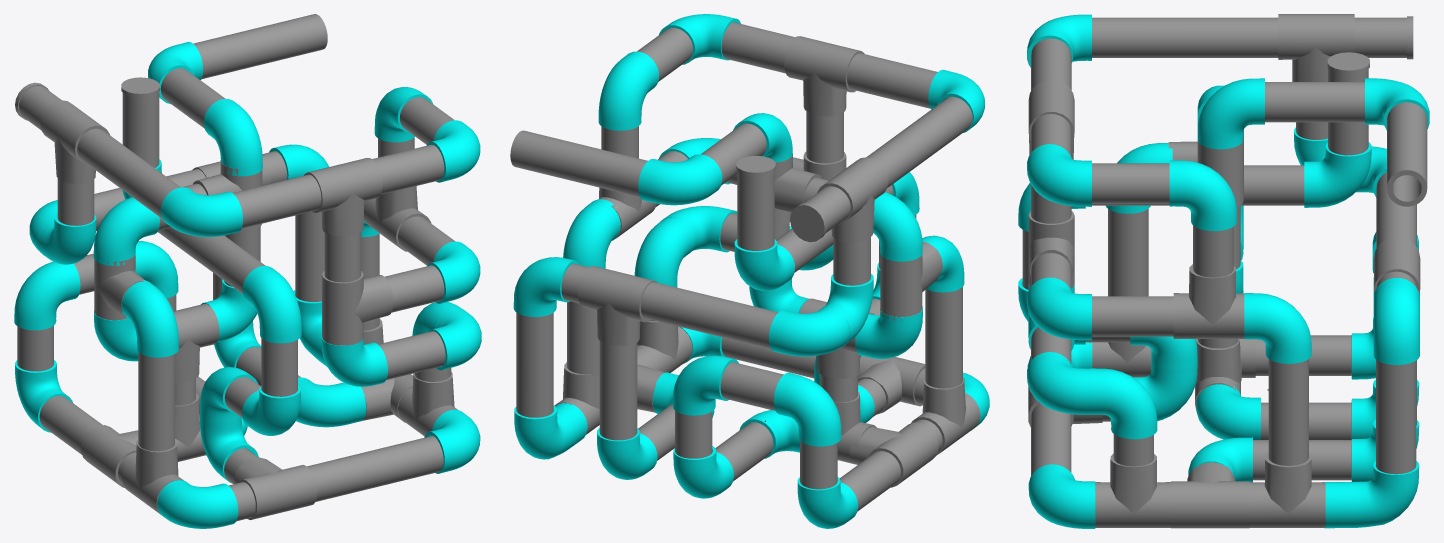
File: Lv-3-pipe-final.FBX
The picture shows the model from 3 angles, left to right: view 1: azimuth 30°, elevation 25°; view 2: azimuth 150°, elevation 25°; view 3: azimuth 270°, elevation 25°; orthographic projection. The views are drawn at different scales.
Visible parts, largest first — view 1: 组007, Donut109, Donut121, Cylinder027, Cylinder025, Donut106, Donut110, Cylinder039, Donut326, Cylinder032, Donut122, Donut101 (+32 smaller); view 2: 组007, Donut121, Donut105, Cylinder025, Cylinder030, Donut106, Donut101, Donut103, Donut110, Donut326, Cylinder032, Cylinder035 (+32 smaller); view 3: 组007, Donut106, Cylinder031, Donut101, Cylinder029, Cylinder026, Cylinder028, Donut100, Cylinder032, Donut120, Donut121, Donut110 (+28 smaller).
Boxes of the visible parts, x1=… form: 组007: x1=14, y1=42, x2=481, y2=528; Donut109: x1=307, y1=435, x2=443, y2=501; Donut121: x1=193, y1=14, x2=327, y2=79; Cylinder027: x1=322, y1=271, x2=393, y2=345; Cylinder025: x1=304, y1=158, x2=382, y2=236; Donut106: x1=77, y1=128, x2=180, y2=218; Donut110: x1=138, y1=352, x2=174, y2=451; Cylinder039: x1=234, y1=457, x2=316, y2=519; Donut326: x1=233, y1=174, x2=321, y2=228; Cylinder032: x1=40, y1=100, x2=110, y2=183; Donut122: x1=157, y1=227, x2=265, y2=293; Donut101: x1=295, y1=211, x2=324, y2=301; 组007: x1=513, y1=14, x2=989, y2=528; Donut121: x1=510, y1=130, x2=647, y2=197; Donut105: x1=640, y1=282, x2=778, y2=348; Cylinder025: x1=784, y1=36, x2=864, y2=116; Cylinder030: x1=578, y1=266, x2=657, y2=346; Donut106: x1=866, y1=96, x2=972, y2=187; Donut101: x1=516, y1=312, x2=553, y2=417; Donut103: x1=599, y1=341, x2=637, y2=440; Donut110: x1=925, y1=287, x2=962, y2=388; Donut326: x1=847, y1=53, x2=947, y2=108; Cylinder032: x1=817, y1=157, x2=888, y2=242; Cylinder035: x1=880, y1=241, x2=942, y2=321; 组007: x1=1018, y1=14, x2=1429, y2=528; Donut106: x1=1092, y1=17, x2=1278, y2=57; Cylinder031: x1=1171, y1=462, x2=1249, y2=528; Donut101: x1=1376, y1=360, x2=1416, y2=474; Cylinder029: x1=1249, y1=453, x2=1325, y2=527; Cylinder026: x1=1095, y1=453, x2=1170, y2=527; Cylinder028: x1=1173, y1=264, x2=1244, y2=338; Donut100: x1=1268, y1=359, x2=1308, y2=465; Cylinder032: x1=1278, y1=14, x2=1354, y2=81; Donut120: x1=1265, y1=82, x2=1364, y2=122; Donut121: x1=1387, y1=102, x2=1427, y2=206; Donut110: x1=1108, y1=209, x2=1148, y2=296.
Bounding box in the file's own units: 89.52 × 89.69 × 91.67.
